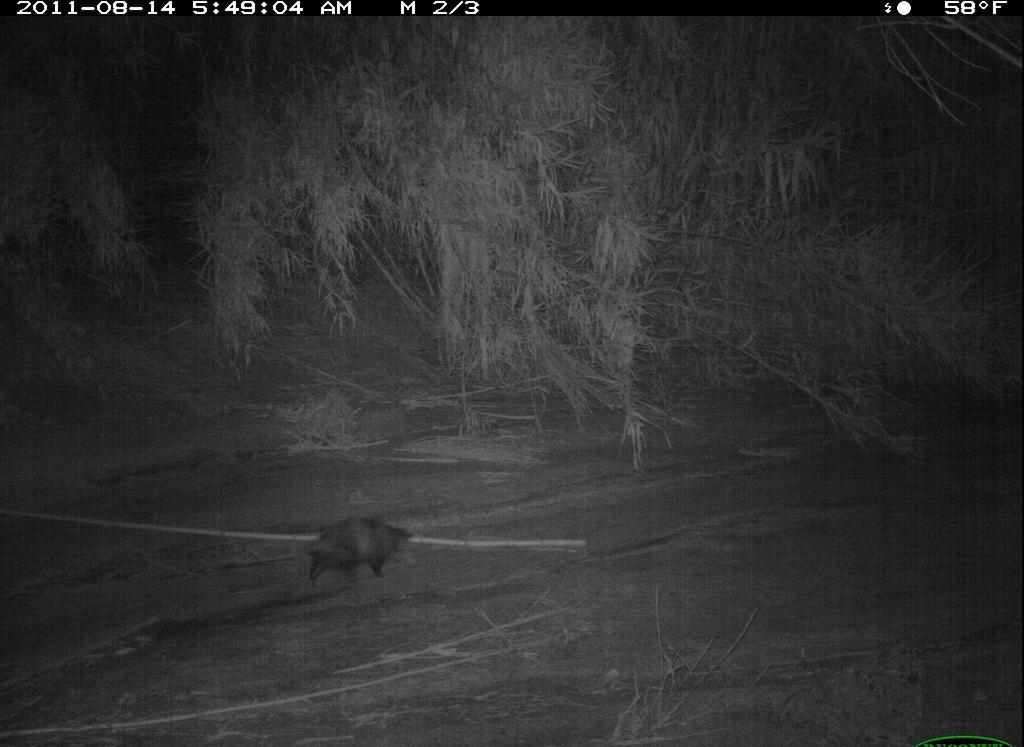opossum: (281, 506, 422, 591)
